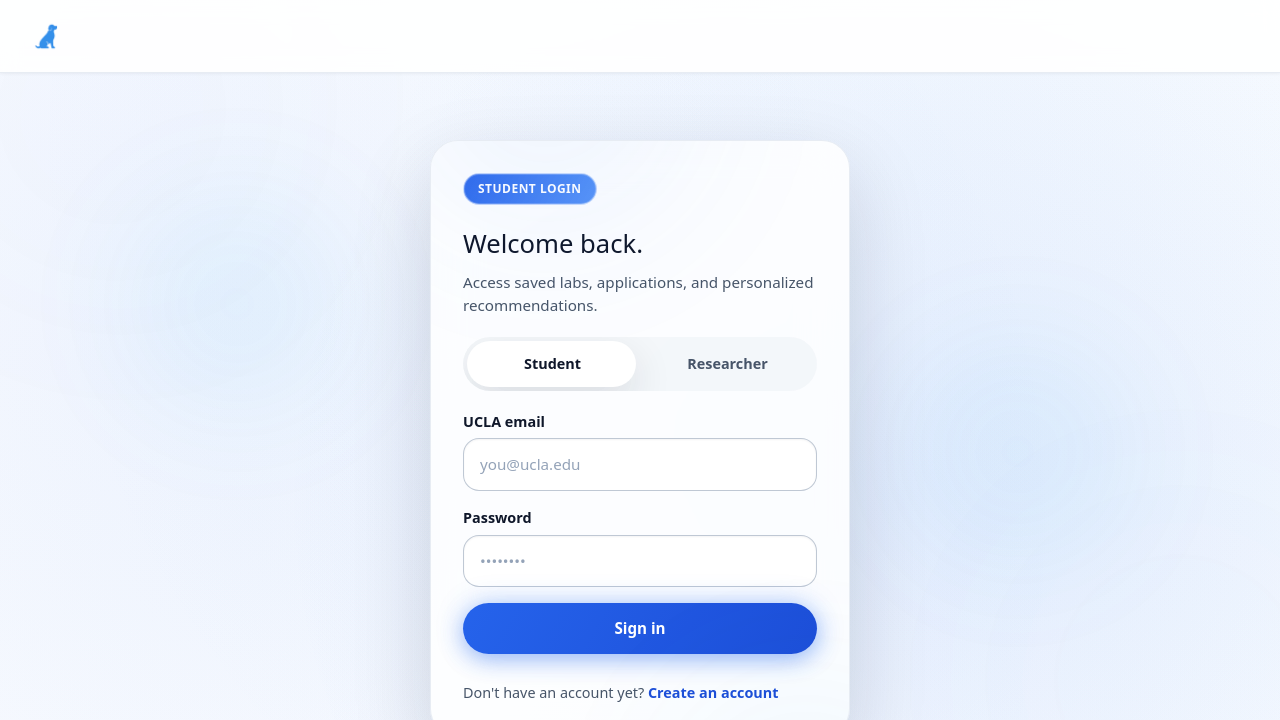
Test case: Functionality Tests › Authentication - Login › should toggle between student and researcher on login
The width and height of the screenshot is (1280, 720).
Click the link "Researcher" at (728, 364), box [687,354,768,373]
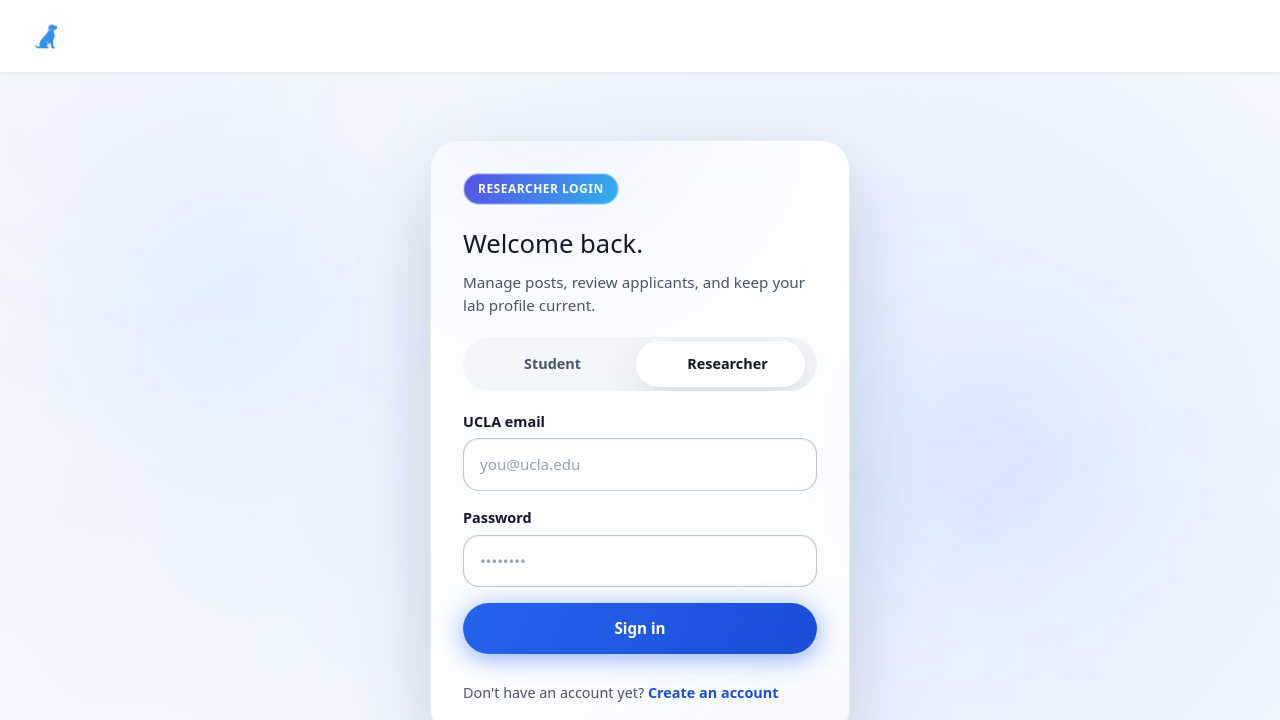
Result: the text "Researcher login" is shown at [463,173,619,205]
